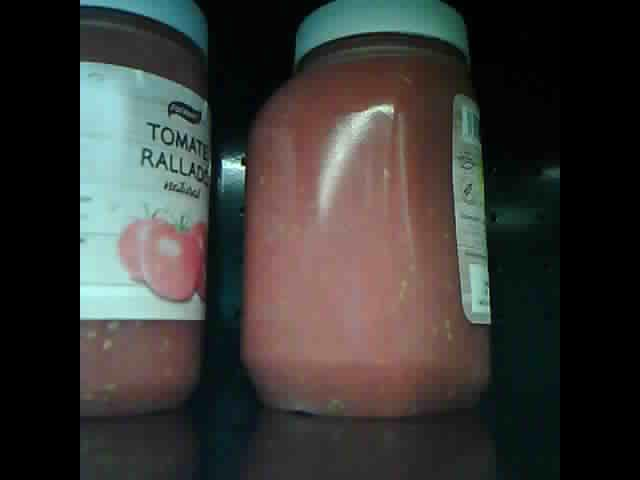tomate: (239, 4, 493, 414), (80, 5, 213, 418)
